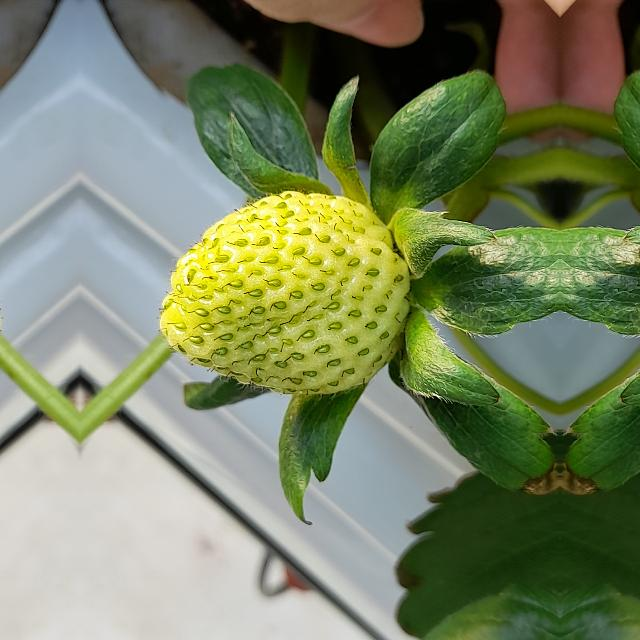Health_25: (156, 187, 410, 397)
